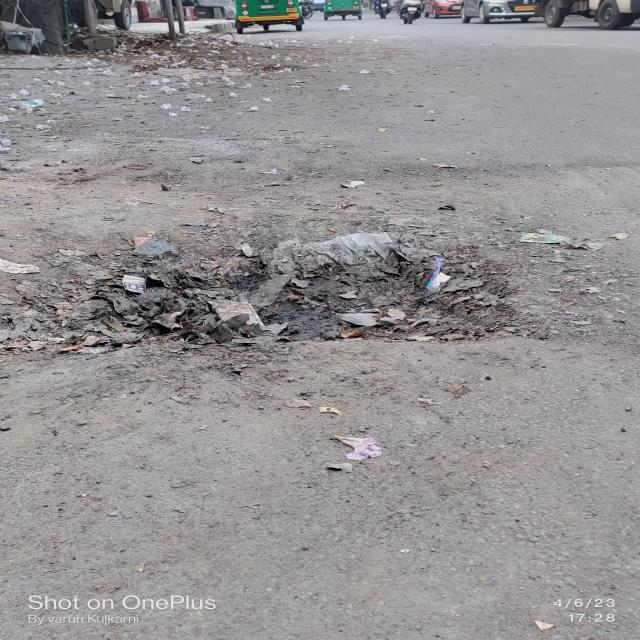potholes: (91, 219, 520, 353)
